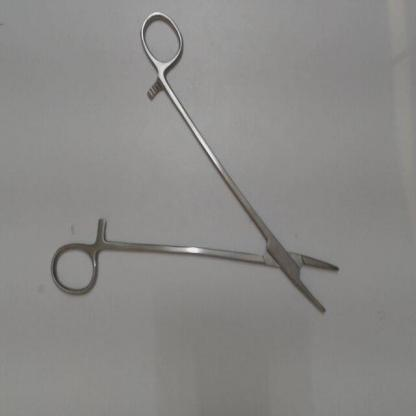8 Mayo Needle Holder: (44, 5, 356, 337)
